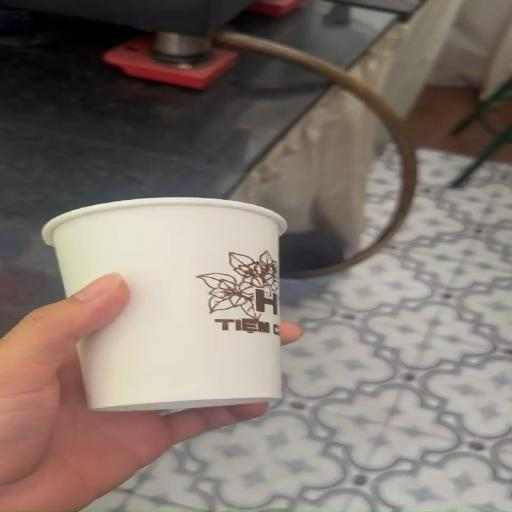Ly_giay: (44, 197, 285, 411)
